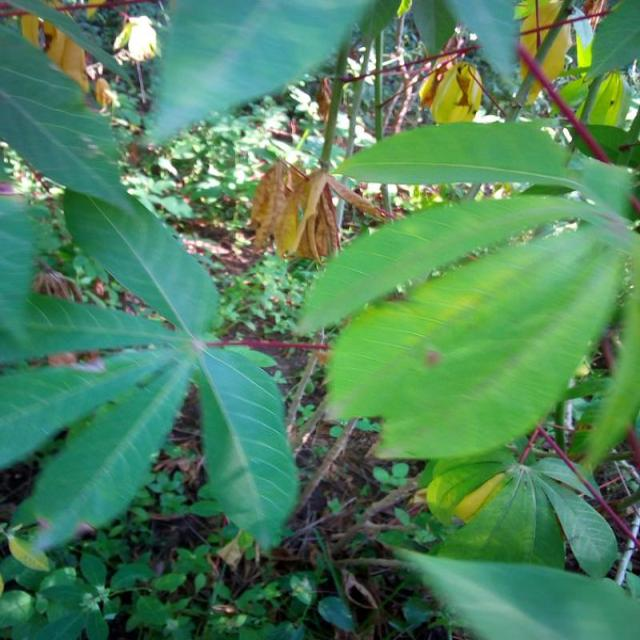cassava leaf: (0, 18, 301, 562), (302, 193, 636, 461)
